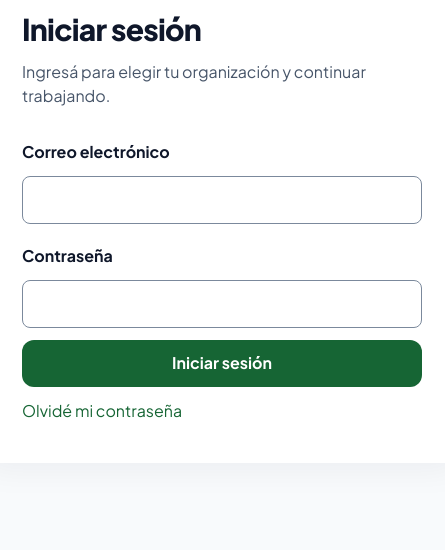
Test: logs in and exposes an accessible failure without showing credentials
Type "ana@example.com" into the field labelled "Correo electrónico".
click(222, 200); type("ana@example.com")  # box [22, 176, 422, 224]
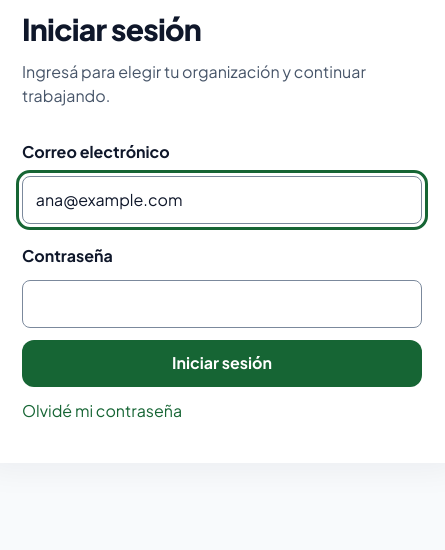
Type "secret-123" into the password field labelled "Contraseña".
click(222, 304); type("secret-123")  # box [22, 280, 422, 328]
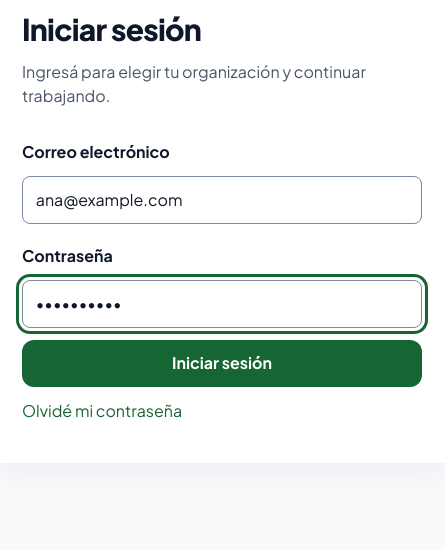
Click the button "Iniciar sesión".
click(222, 364)  # box [22, 340, 422, 387]
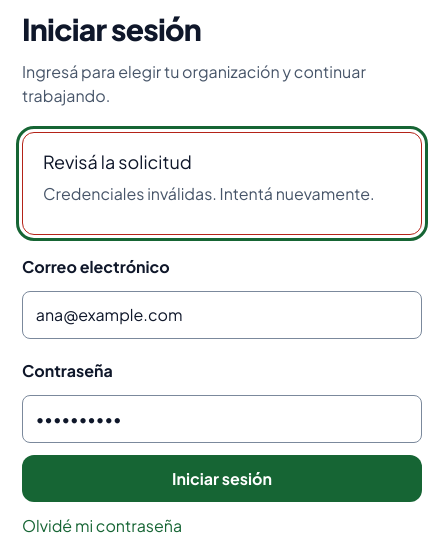
Result: the message shows "Credenciales inválidas" at [43, 184, 375, 204]
